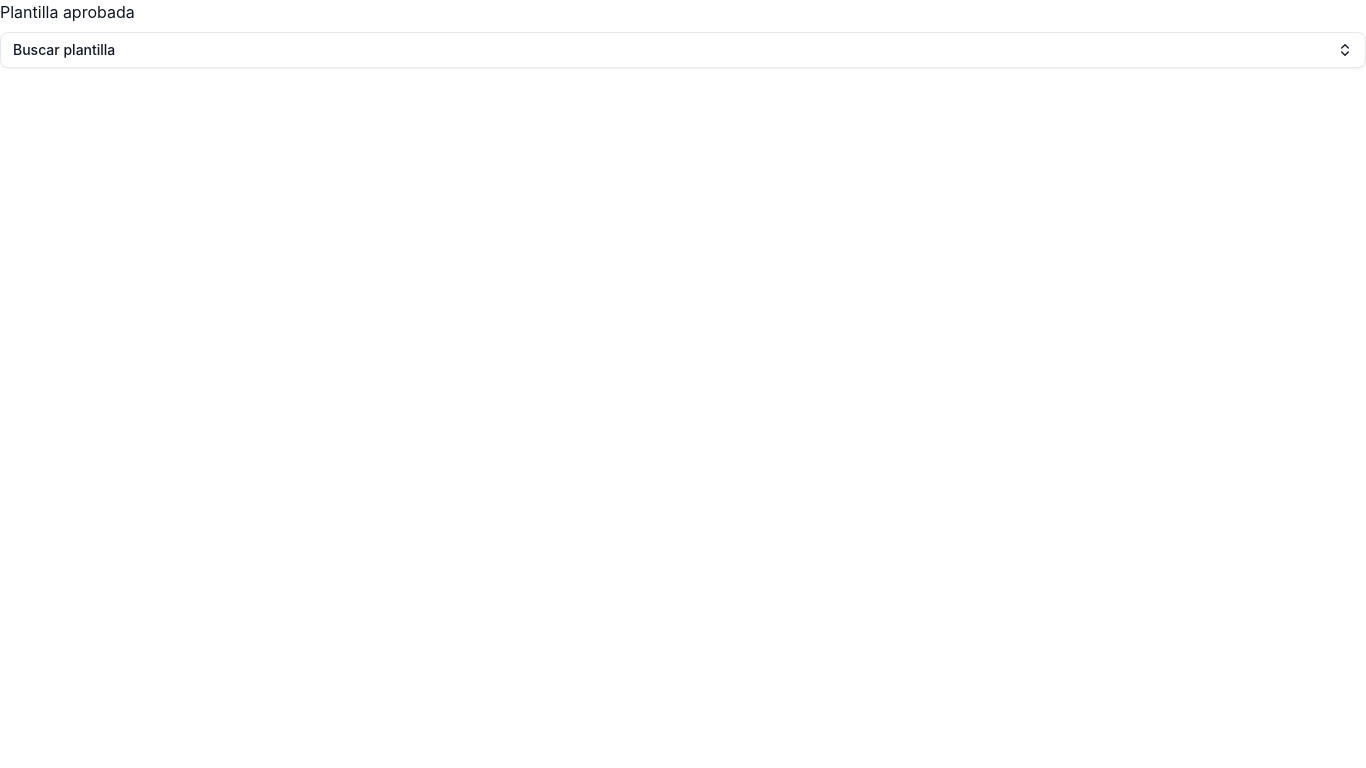
Scenario: CampaignTemplatePicker › searches and paginates templates without downloading every page
Later steps or results of the test are not shown.
Click the dropdown.
click(64, 50)  # box [0,32,1365,68]
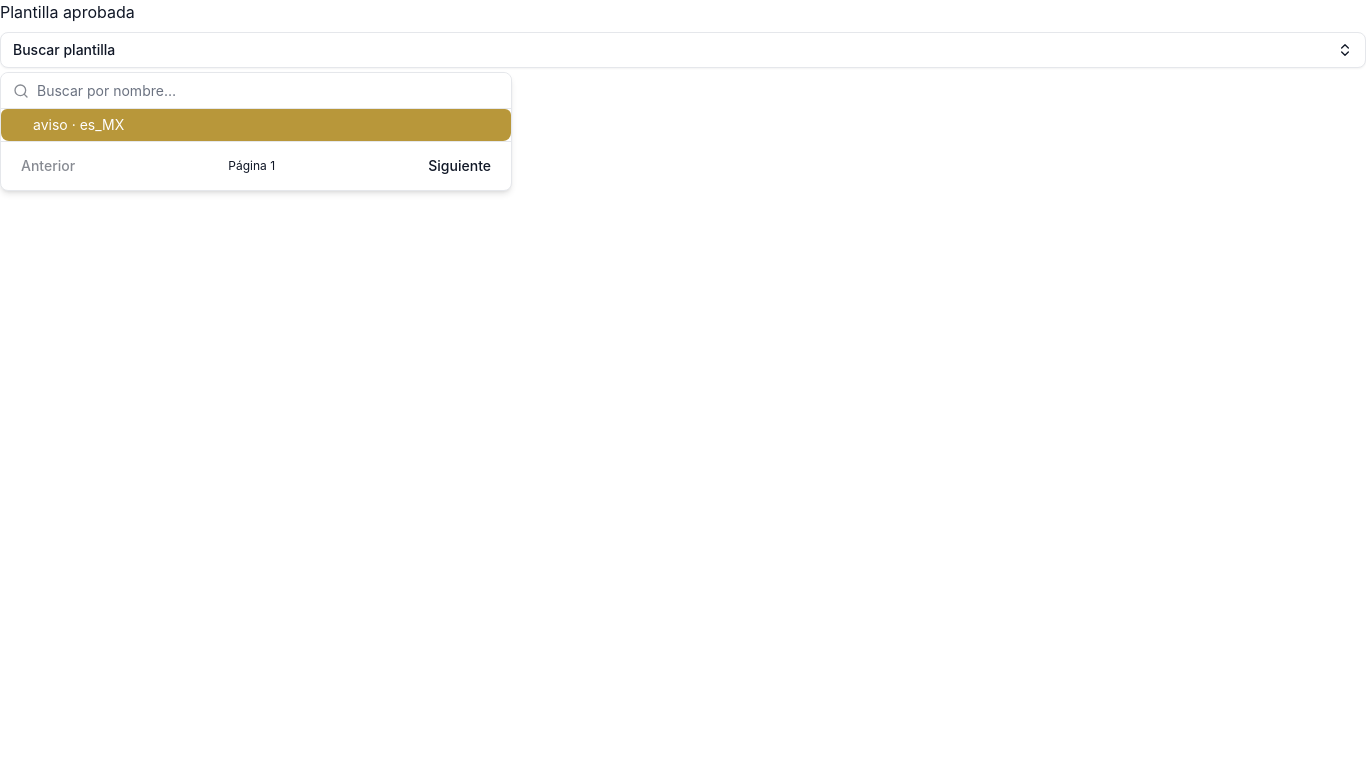
Expected: the option "aviso · es_MX" is shown, [1,109,511,141]
Click the button "Siguiente".
click(460, 166)  # box [416,150,503,182]
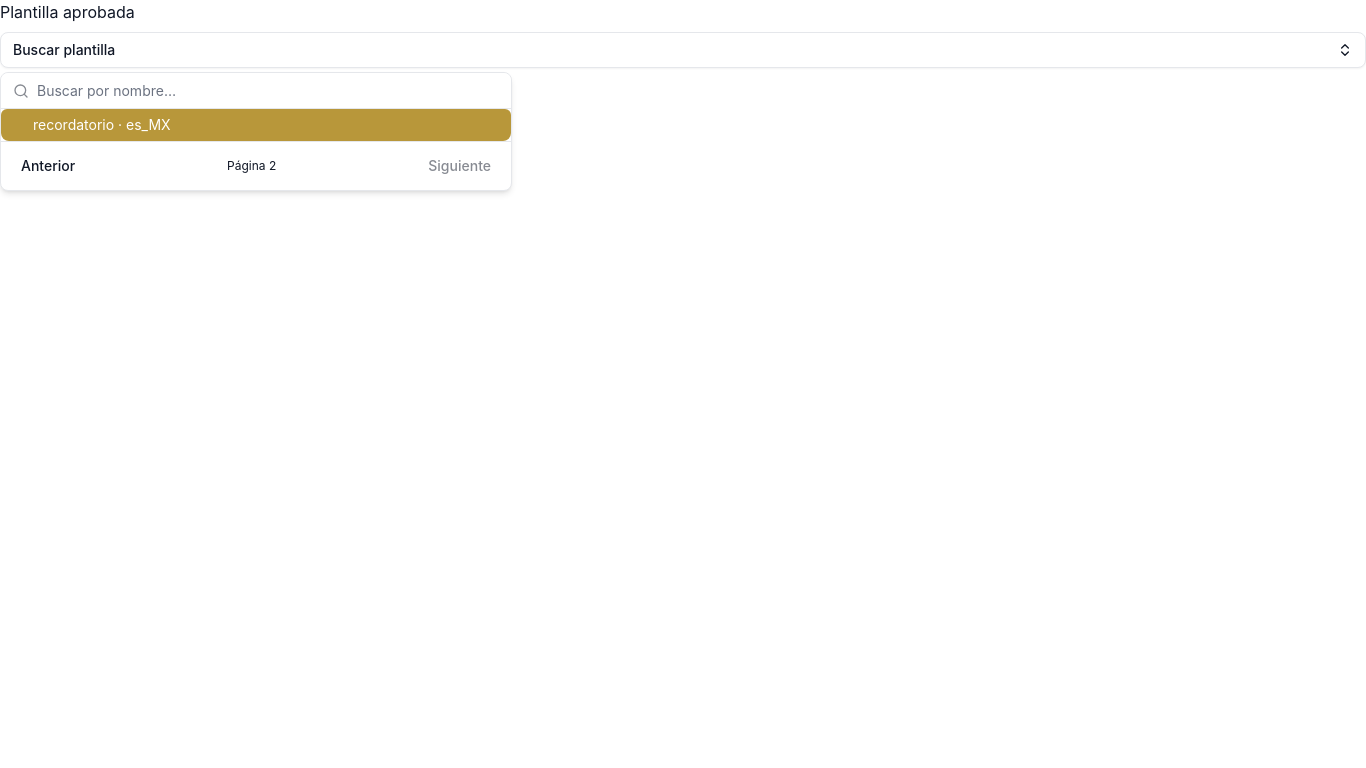
Expected: the option "recordatorio · es_MX" is shown, [1,109,511,141]
Expected: the option "aviso · es_MX" is gone
